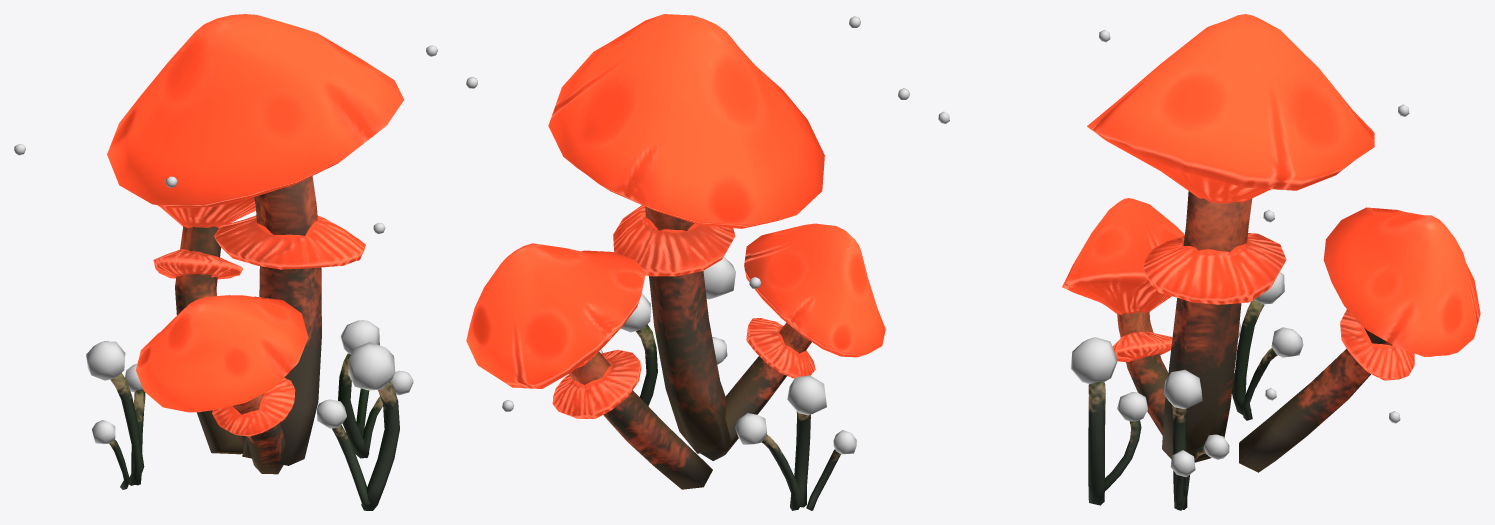
Rendered from grib 2,0.fbx.
3 views of the same model, side by side, from view 1: azimuth 30°, elevation 25°; view 2: azimuth 150°, elevation 25°; view 3: azimuth 270°, elevation 25° (orthographic).
Visible parts, largest first — view 1: LP grib+, LP grib+.001; view 2: LP grib+, LP grib+.001; view 3: LP grib+, LP grib+.001.
Part boxes in pixels (box(x1,y1,x2,y2)): LP grib+: box(107, 14, 404, 510); LP grib+.001: box(14, 45, 437, 444); LP grib+: box(466, 14, 885, 510); LP grib+.001: box(466, 16, 909, 454); LP grib+: box(1062, 14, 1480, 510); LP grib+.001: box(938, 30, 1409, 477).
Bounding box in the file's own units: 1022 × 1217 × 1315.
